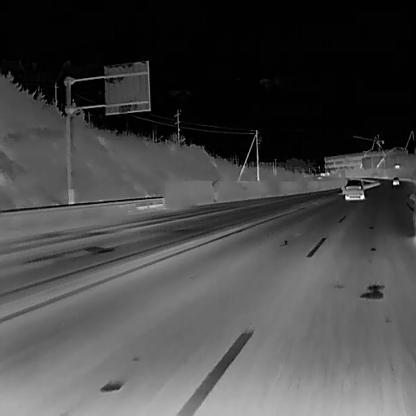car: (344, 178, 365, 200), (391, 176, 399, 186)
